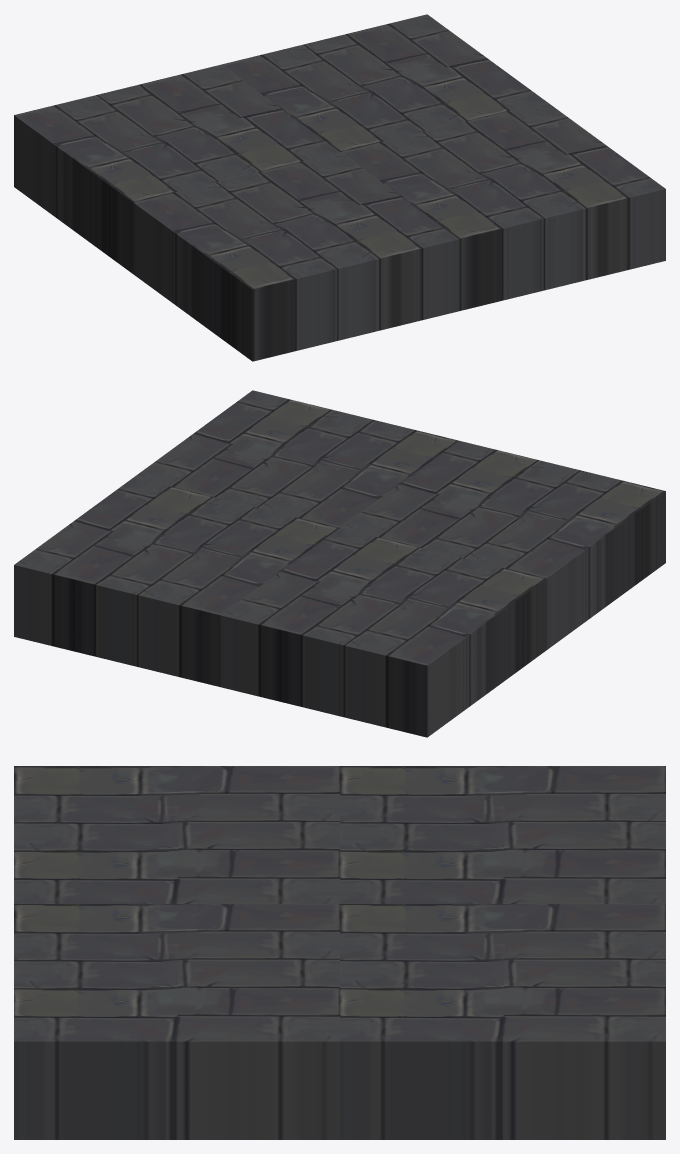
The model's file is Floor_Tile02.glb.
The picture shows the model from 3 angles, top to bottom: view 1: azimuth 30°, elevation 25°; view 2: azimuth 150°, elevation 25°; view 3: azimuth 270°, elevation 25°; orthographic projection. The views are drawn at different scales.
Visible parts, largest first — view 1: Plane.017; view 2: Plane.017; view 3: Plane.017.
Boxes of the visible parts, left/top/right/bottom form: Plane.017: left=14, top=14, right=665, bottom=361; Plane.017: left=14, top=390, right=665, bottom=737; Plane.017: left=14, top=766, right=665, bottom=1139.
Size of the model in its own units: 4.05 by 0.6728 by 4.05.
1 material, 1 textured.
